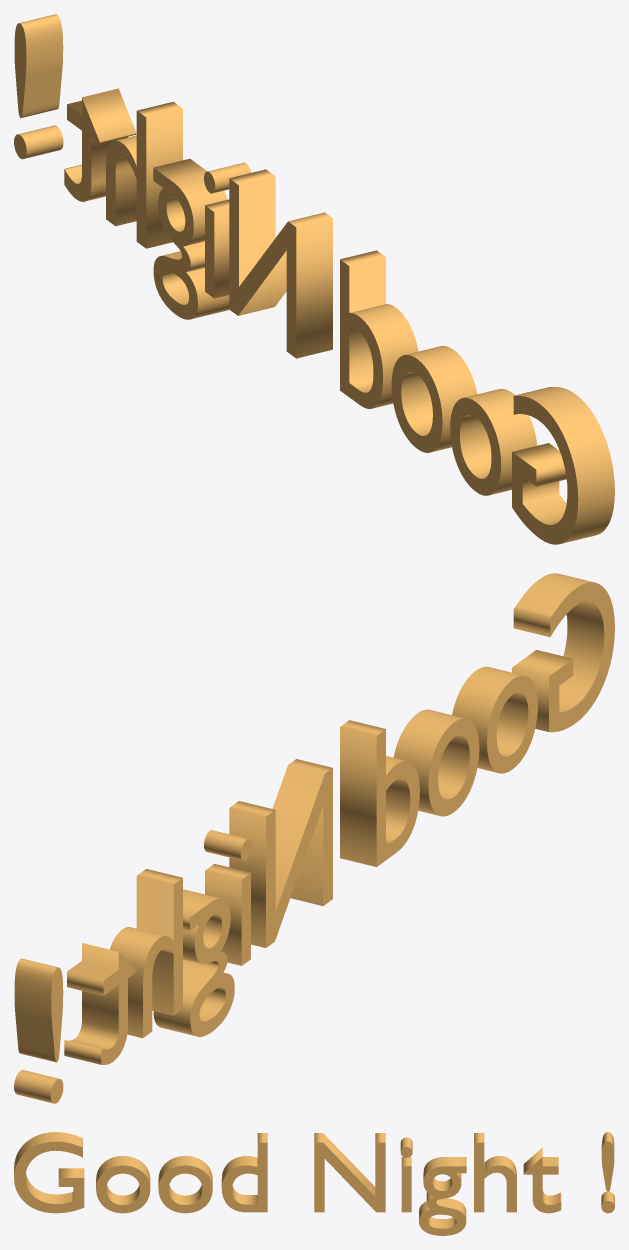
Rendered from goodnight.glb.
The picture shows the model from 3 angles, top to bottom: view 1: azimuth 30°, elevation 25°; view 2: azimuth 150°, elevation 25°; view 3: azimuth 270°, elevation 25°; orthographic projection. The views are drawn at different scales.
Visible parts, largest first — view 1: 文本; view 2: 文本; view 3: 文本.
Part boxes in pixels (x1=…): 文本: x1=14, y1=14, x2=614, y2=544; 文本: x1=14, y1=573, x2=614, y2=1103; 文本: x1=14, y1=1132, x2=614, y2=1235.
Bounding box in the file's own units: 0.2 × 0.921 × 5.32.
